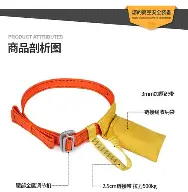safety belt2: (11, 75, 166, 171)
